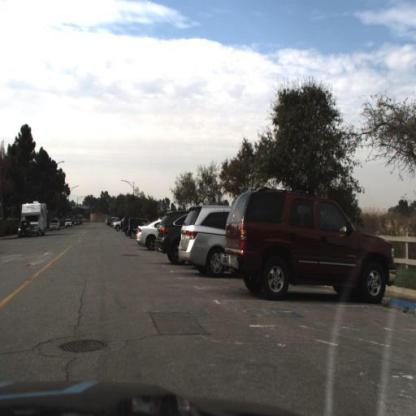car: (228, 180, 398, 314), (180, 200, 237, 278), (153, 206, 189, 265), (138, 217, 158, 253), (14, 218, 32, 241), (124, 215, 138, 241), (49, 216, 60, 233)
truck: (22, 202, 48, 236)
